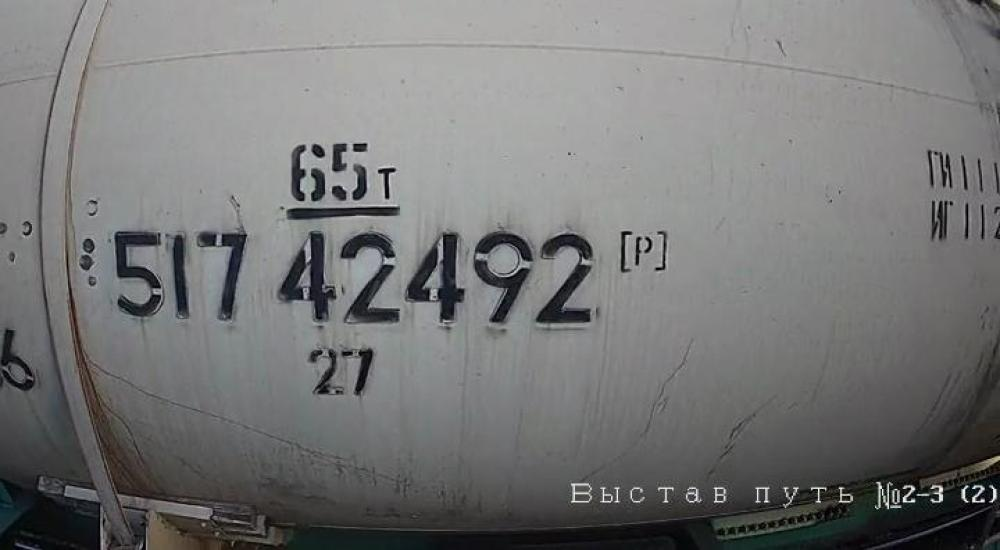Wagon-number: (109, 222, 601, 337)
